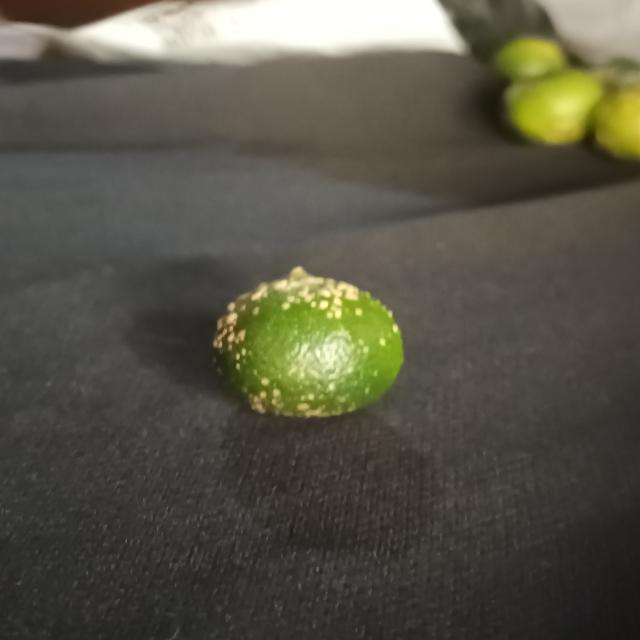scab: (213, 272, 410, 418)
